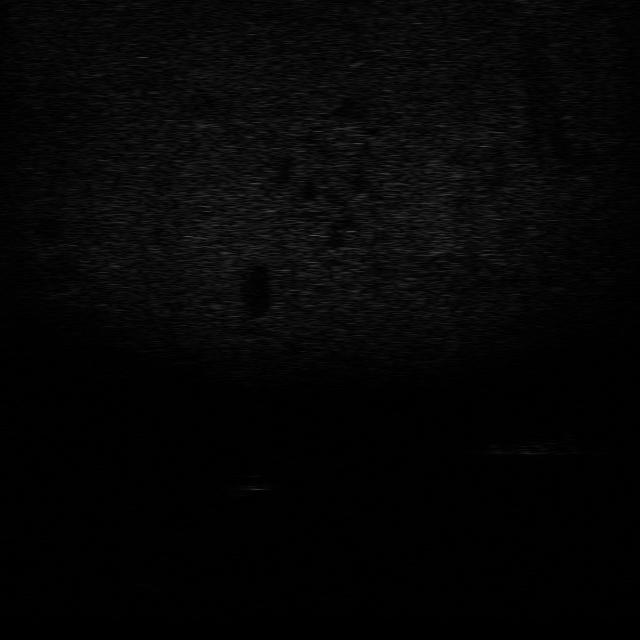ball: (229, 471, 276, 494)
human body: (475, 431, 585, 458)
